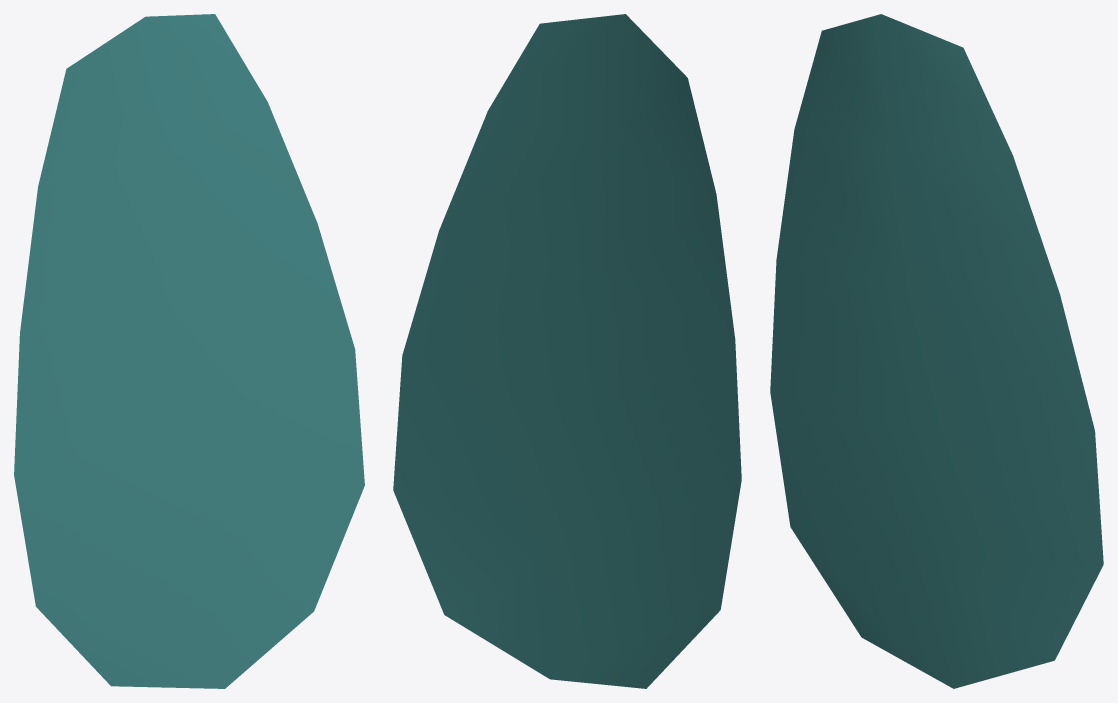
Rendered from budgie_feather_flight_tertiary_015.obj.
3 renders of one model, left to right at view 1: azimuth 30°, elevation 25°; view 2: azimuth 150°, elevation 25°; view 3: azimuth 330°, elevation 25°, orthographic. The views are drawn at different scales.
Parts seen in each view (by area): view 1: feather_flight_tertiary_015; view 2: feather_flight_tertiary_015; view 3: feather_flight_tertiary_015.
Part boxes in pixels (x1=…): feather_flight_tertiary_015: x1=14, y1=14, x2=364, y2=688; feather_flight_tertiary_015: x1=393, y1=14, x2=741, y2=688; feather_flight_tertiary_015: x1=770, y1=14, x2=1103, y2=688.
Size of the model in its own units: 0.00771 by 0.0145 by 0.000383.
